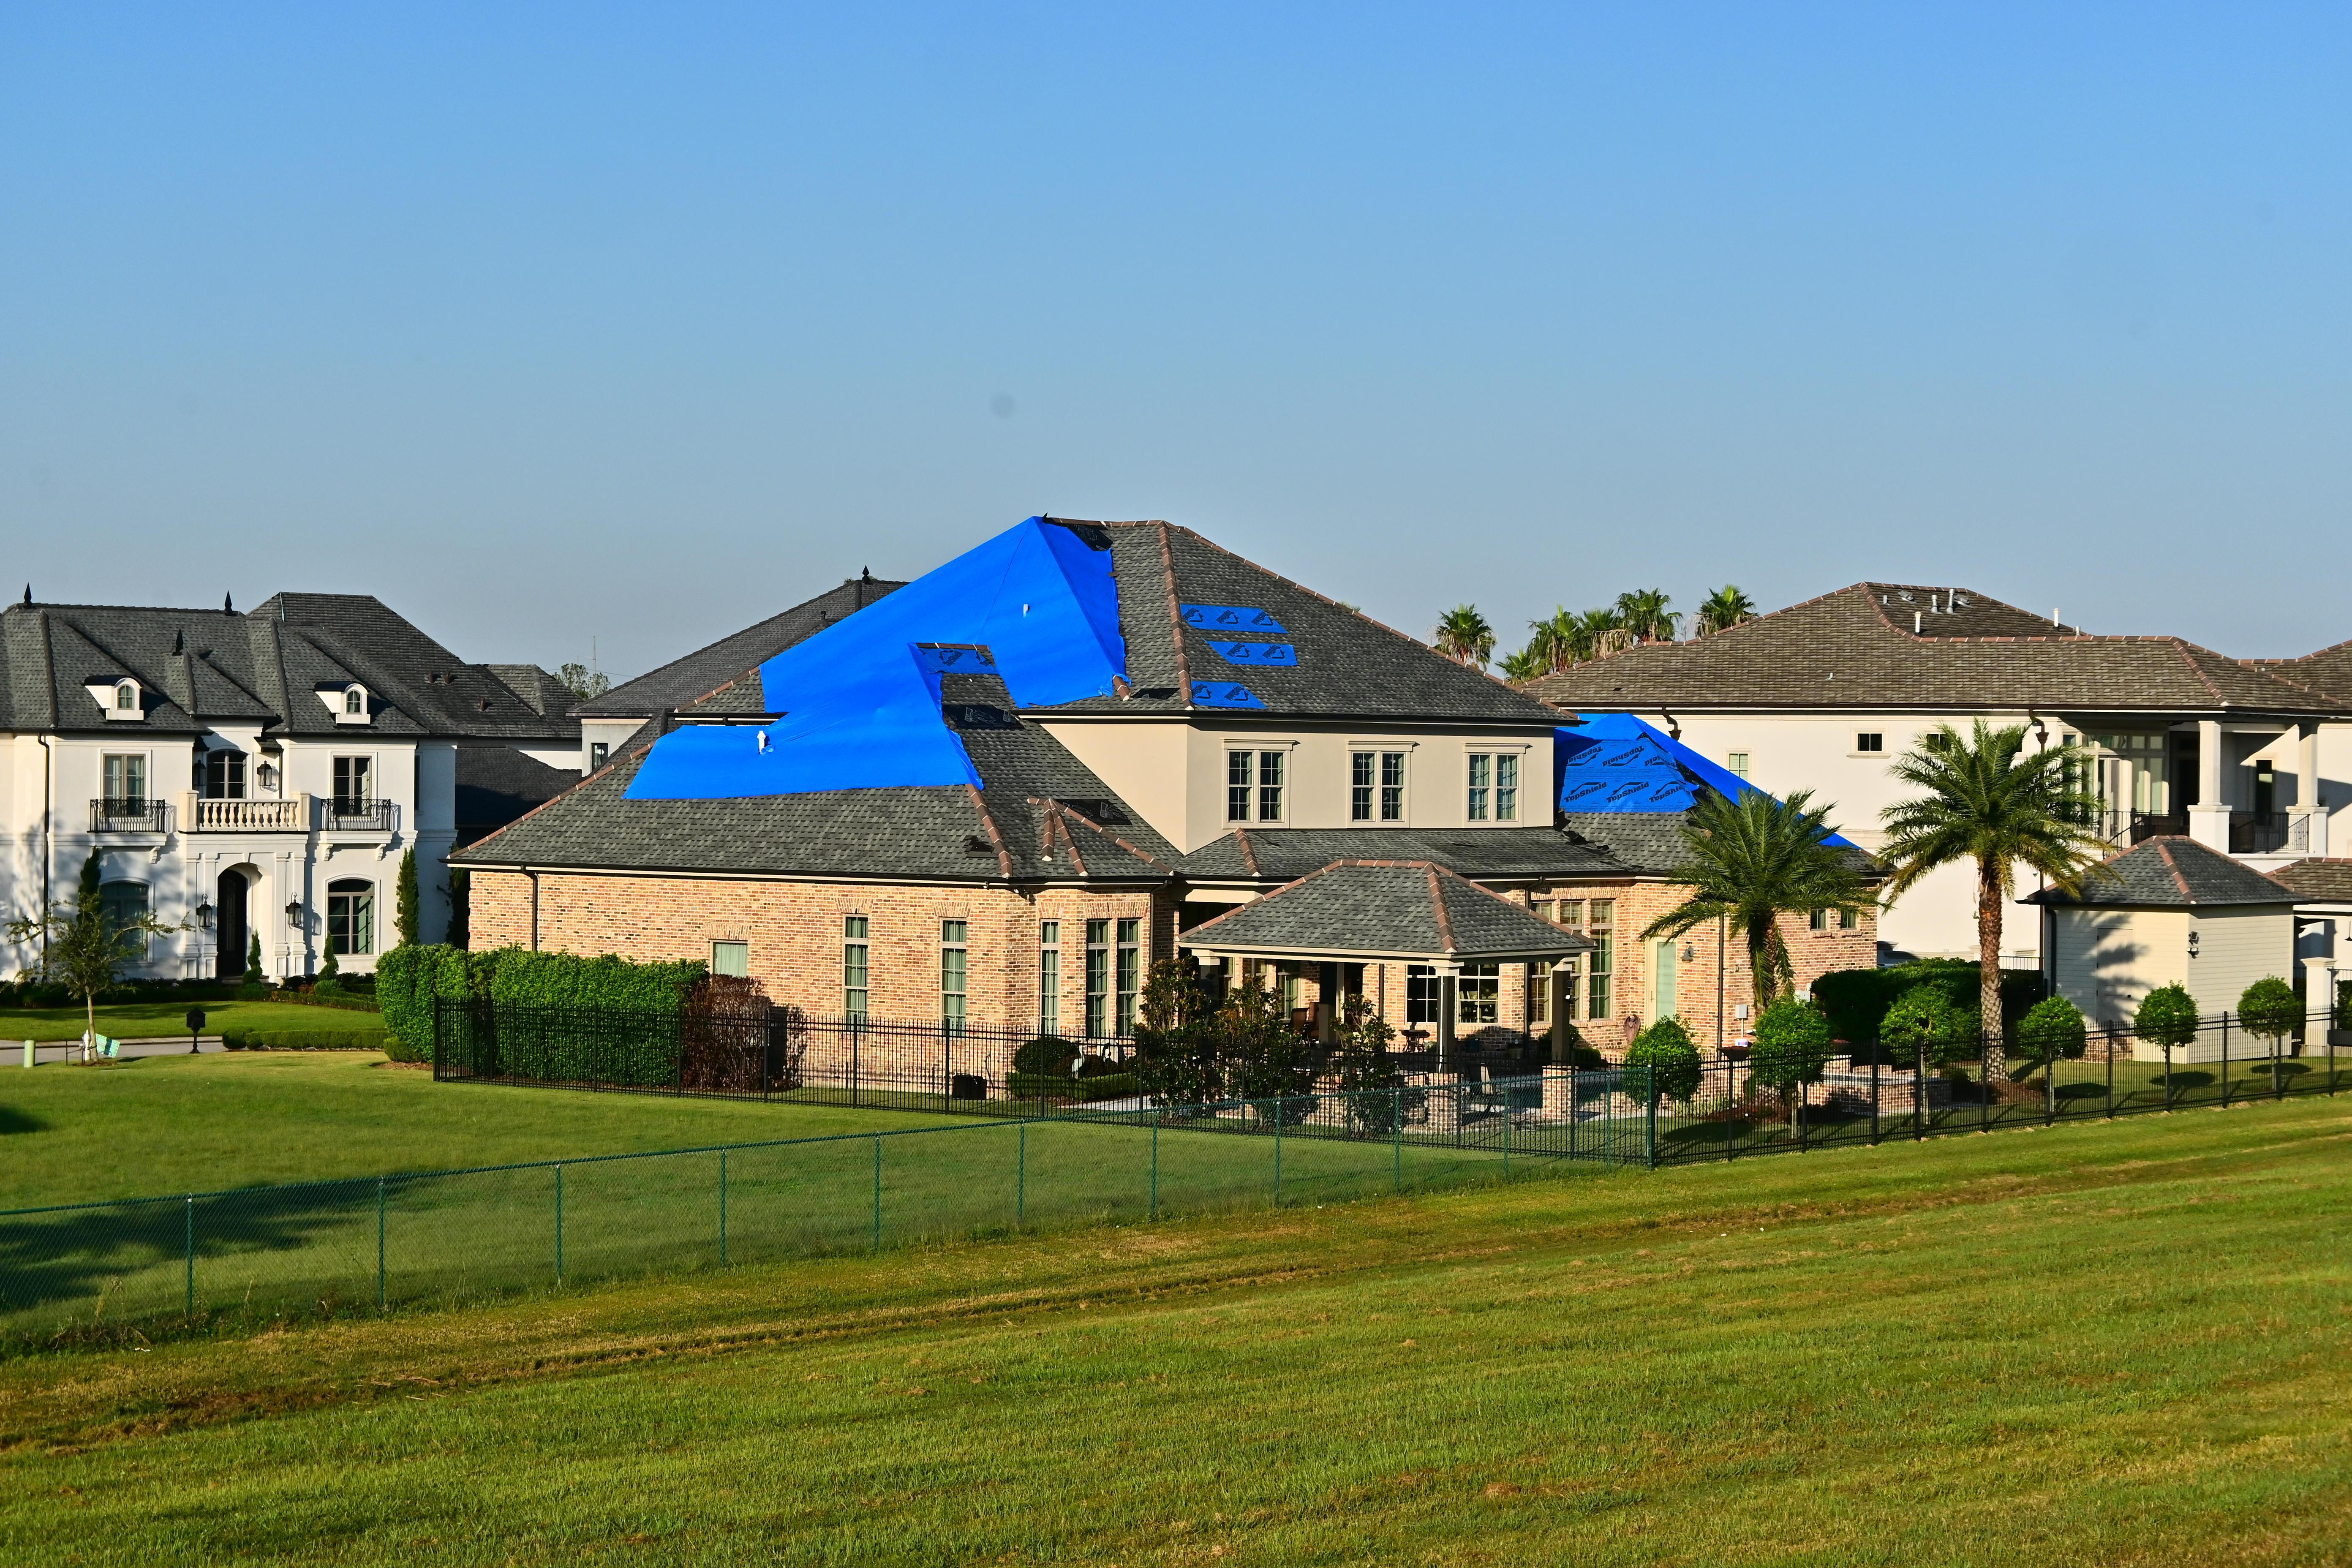minor: (495, 481, 1918, 1144)
